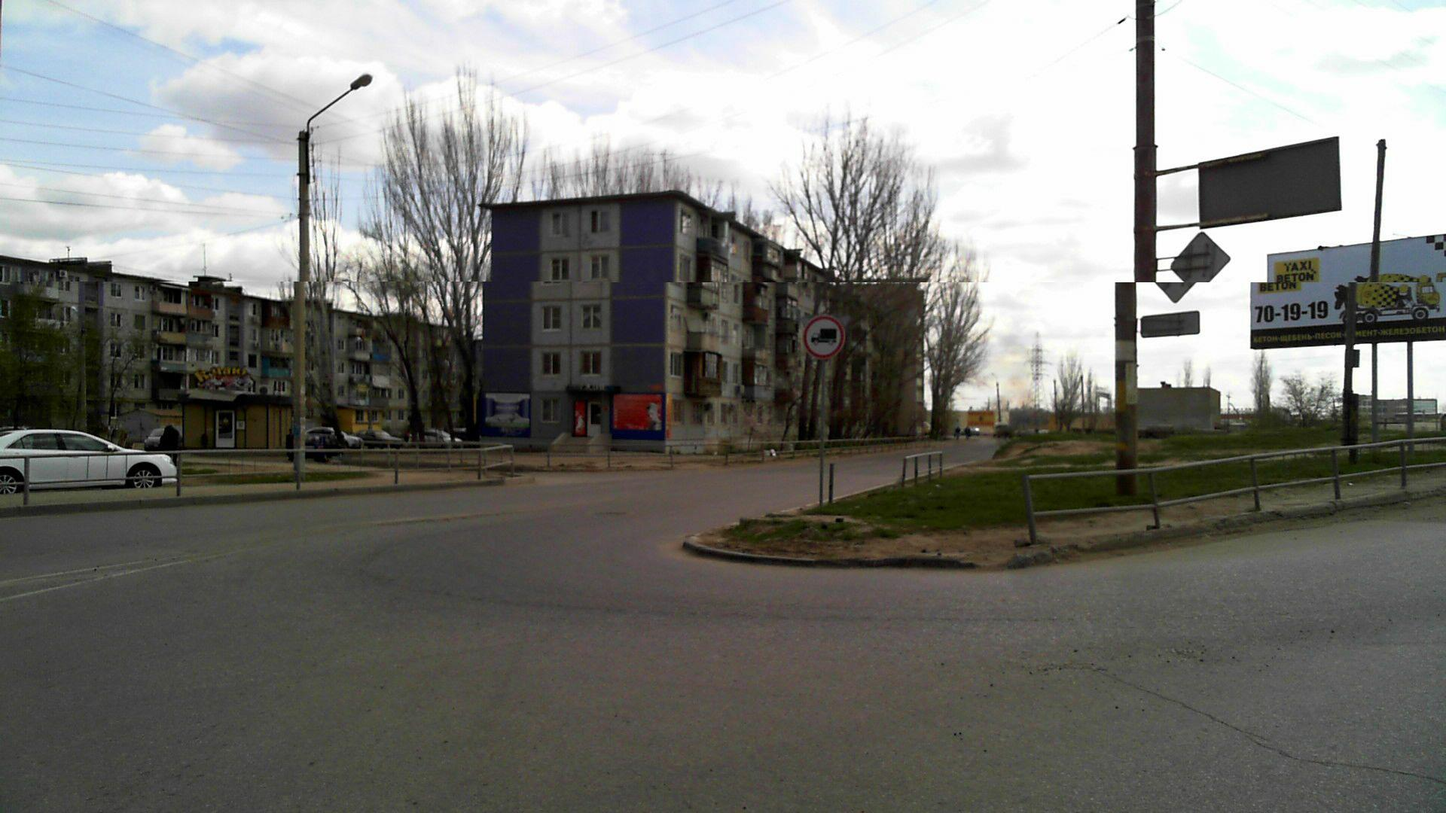road_sign: (803, 315, 845, 359)
